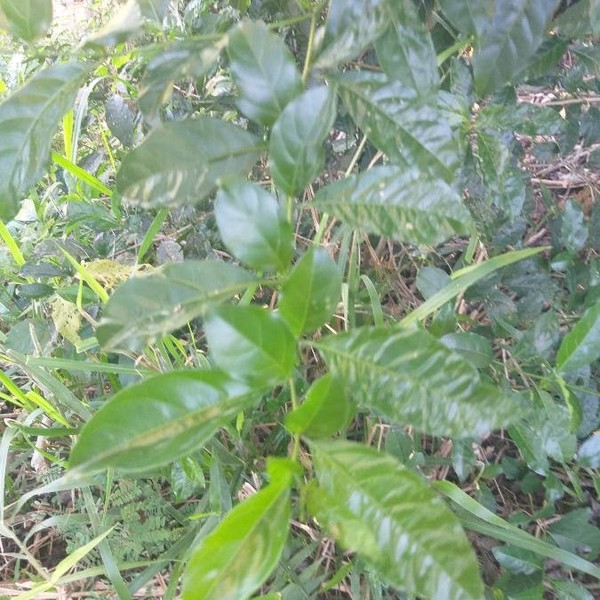obstacle: (140, 49, 456, 577)
